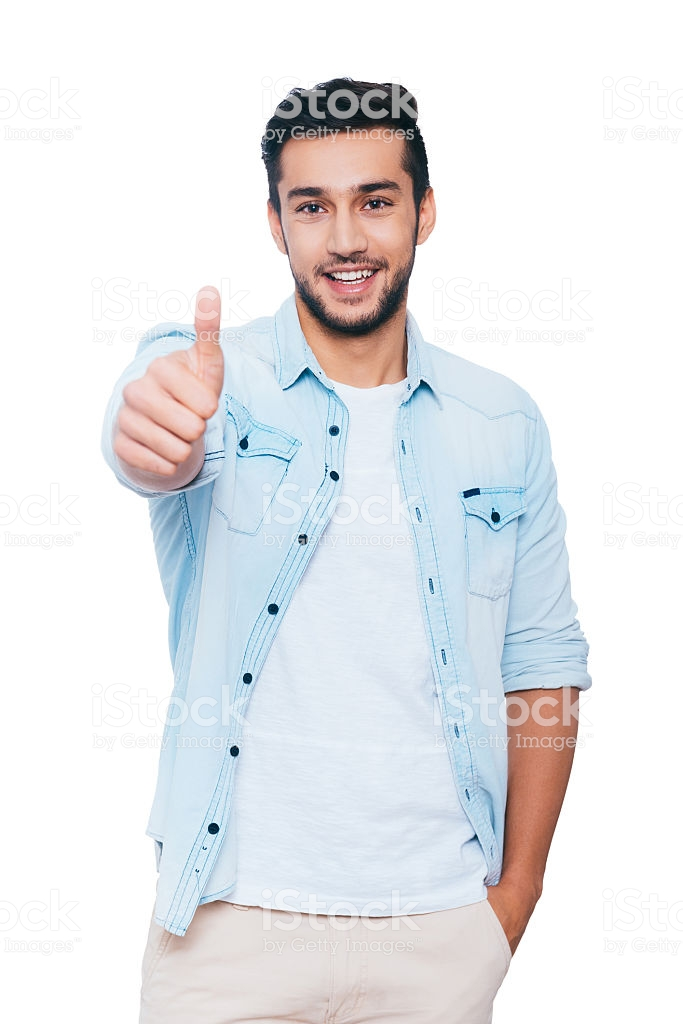thumbsup: (109, 284, 224, 482)
